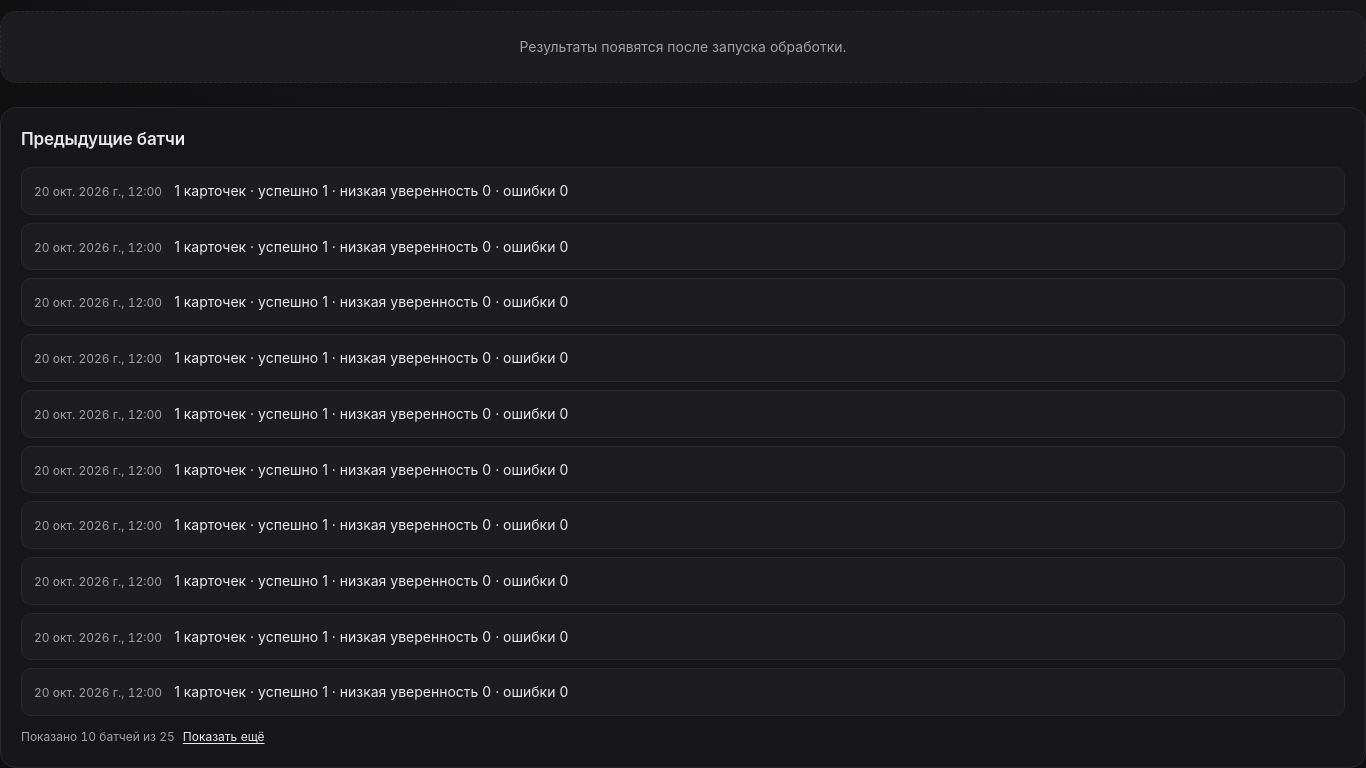
Test: PageResults › пагинирует историю: 10 последних, «Показать ещё» догружает следующие
(page scrolled)
Expected: the text "Показано 10 батчей из 25" is shown, [21,728,175,747]
Step 1. Click the button "Показать ещё" → (224, 737), box [183,728,265,747]
(page scrolled)
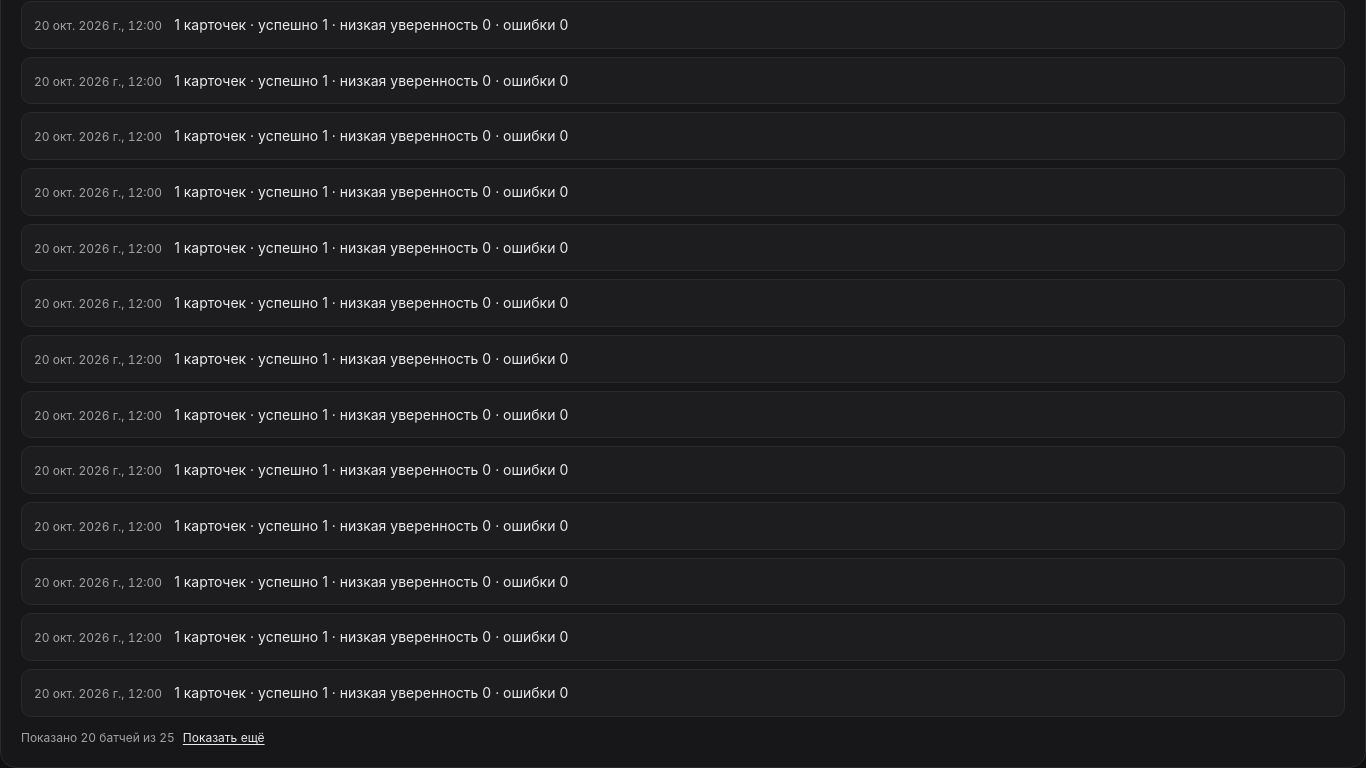
Now the text "Показано 20 батчей из 25" is shown, box [21,729,175,748]
